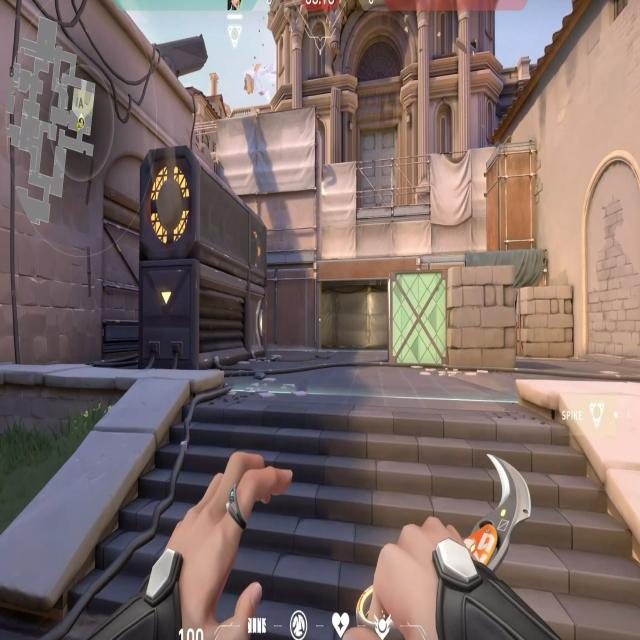A_Heaven_Box: (481, 130, 542, 252)
A_Heaven_Wall: (219, 102, 335, 261)
A_Hell: (309, 248, 391, 352)
A_Site_Box: (385, 268, 521, 373)
